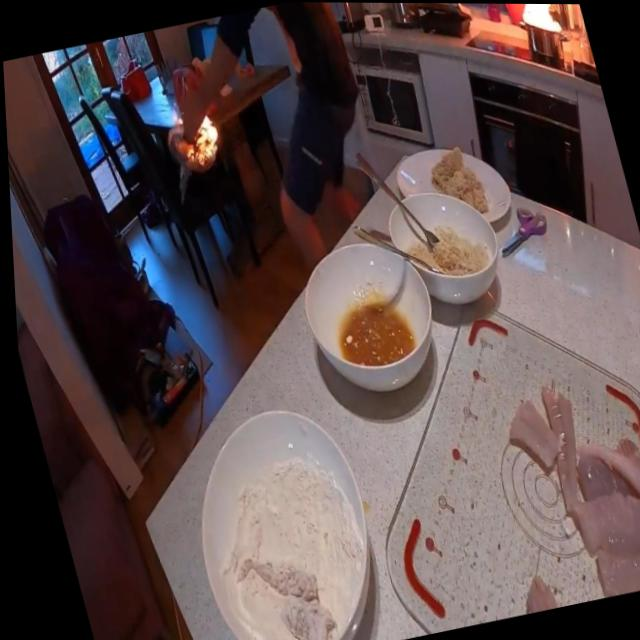fire: (166, 104, 230, 179), (502, 3, 573, 39)
